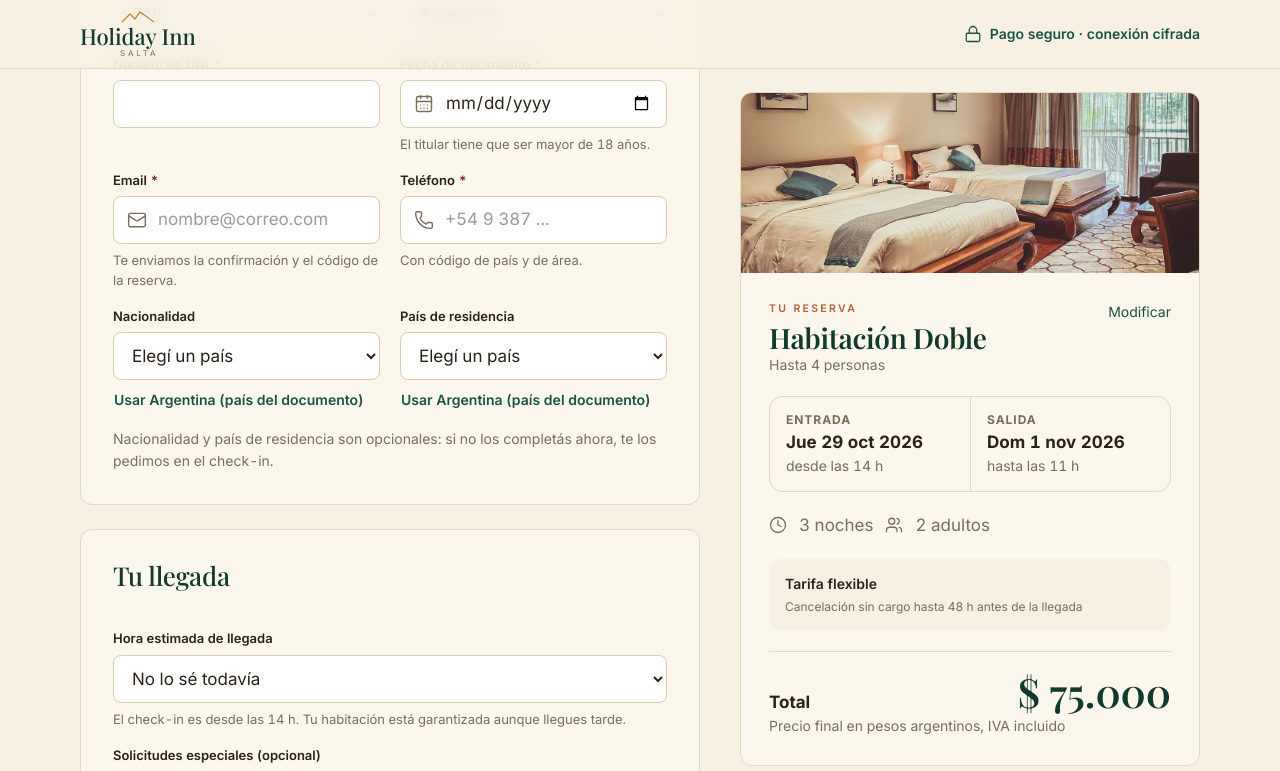
Test: /web/datos (HU-101) › 'Usar Argentina' copia el país del documento sin precargarlo
The width and height of the screenshot is (1280, 771).
(page scrolled)
Click the 1st button "Usar Argentina (país del documento)" at (239, 400), box x1=113 y1=388 x2=364 y2=412
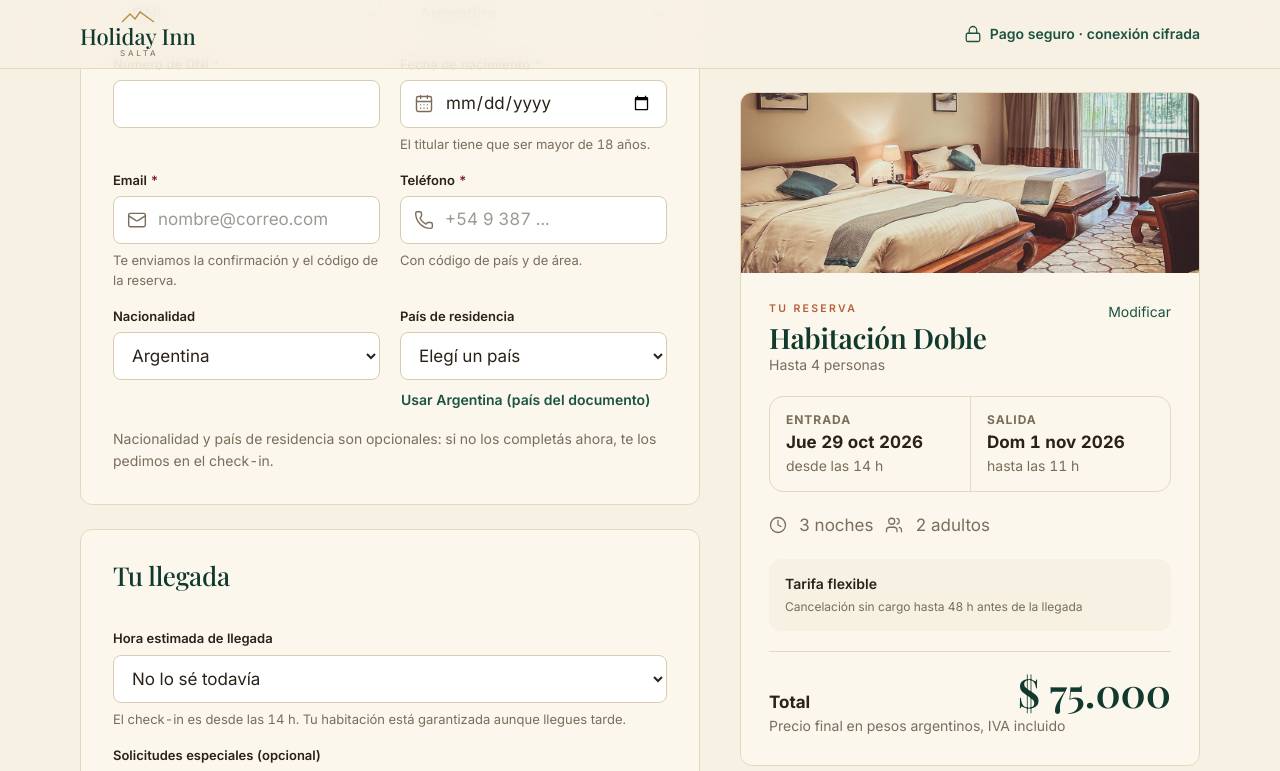
Expected: the dropdown labelled "País de residencia" shows "Elegí un país", x1=400 y1=332 x2=667 y2=380
Result: the dropdown labelled "Nacionalidad" shows "Argentina" at x1=113 y1=332 x2=380 y2=380
